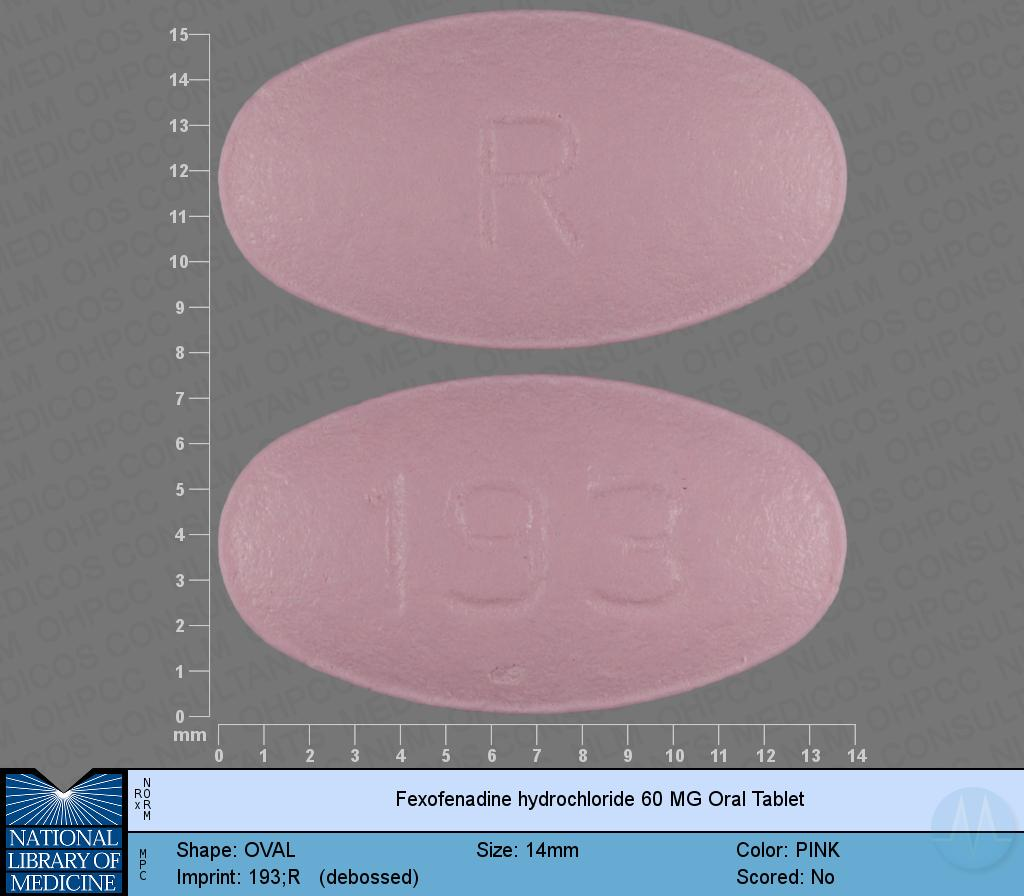Pill: (212, 3, 857, 358), (213, 367, 855, 722)
